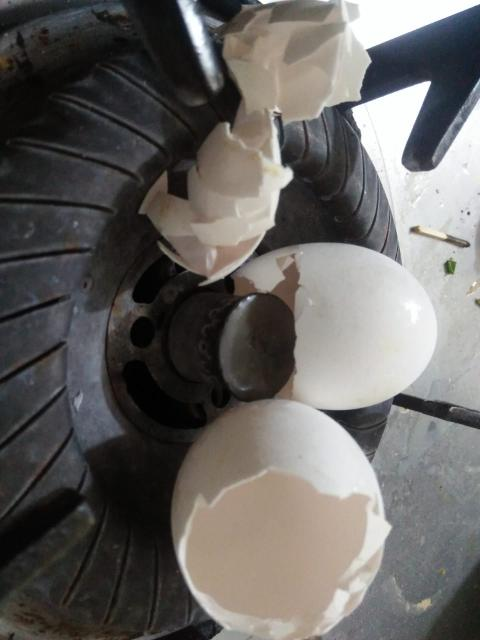Roto: (169, 398, 392, 638), (226, 241, 438, 411), (138, 108, 294, 286), (214, 0, 372, 126)
